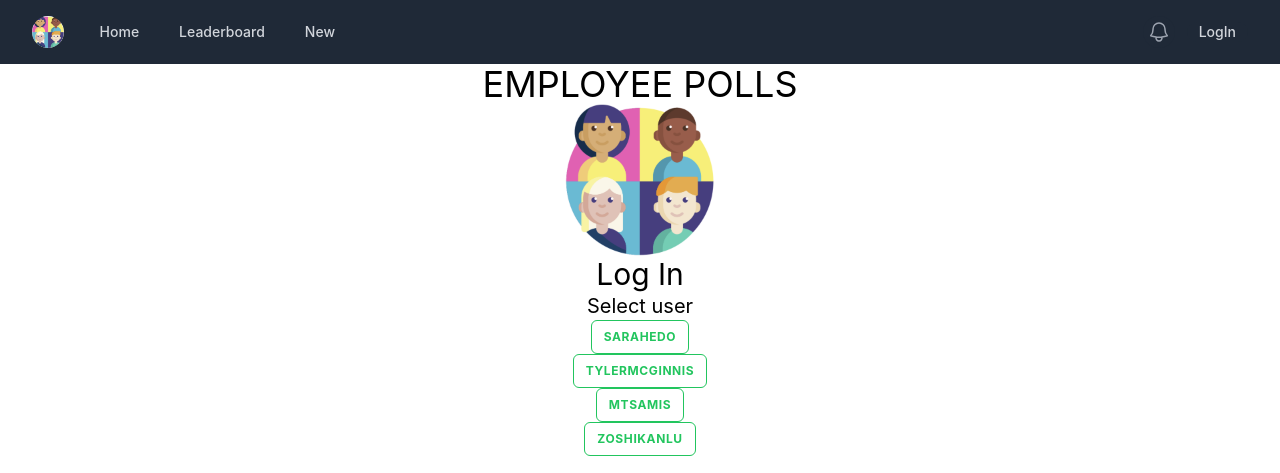
Test case: App › will log in
This screenshot has width=1280, height=473.
Step 1. Click the button "sarahedo" → [640, 337], box [591, 320, 689, 354]
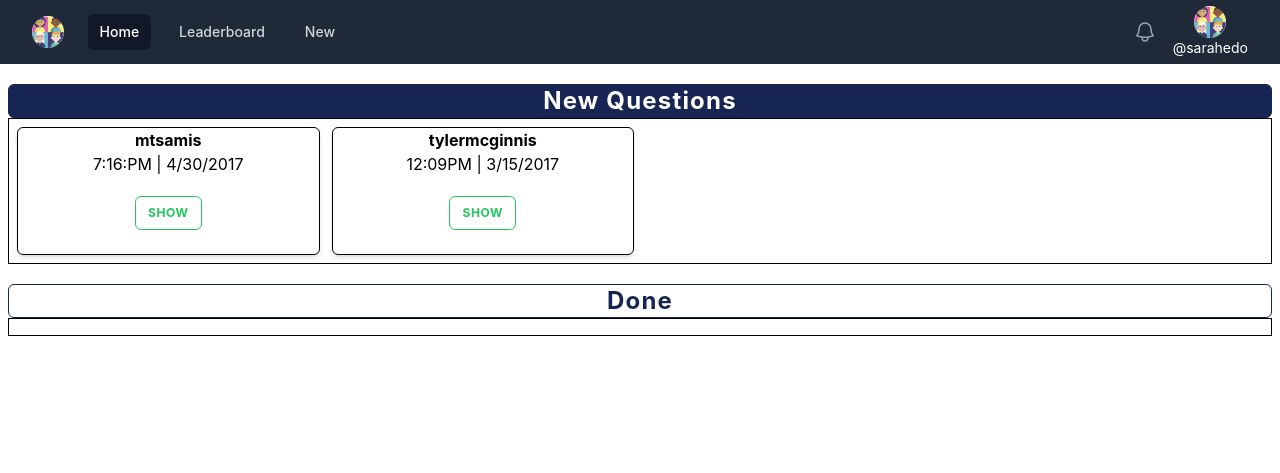
Expected: the heading "Select user" is gone
Expected: the text "@sarahedo" is shown, [1173, 39, 1248, 56]
